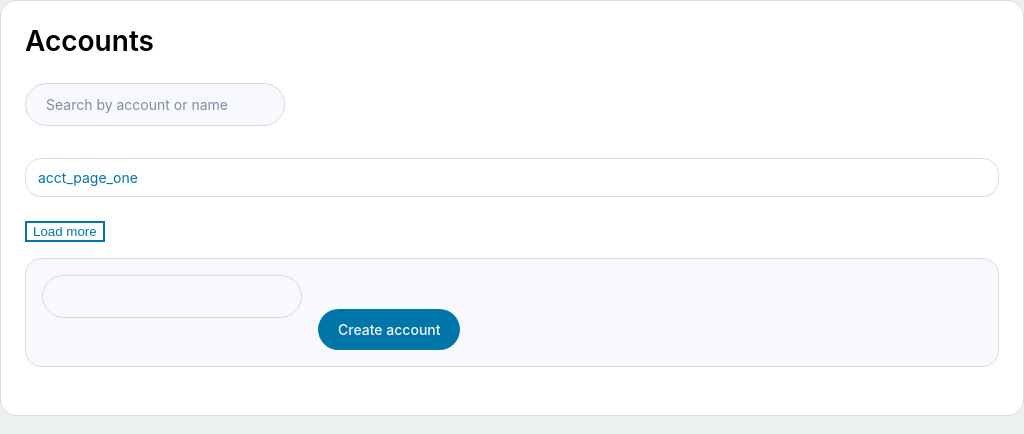
Test case: AccountsListRoute › resets to the first page when the search term changes
Expected: the link "acct_page_one" is shown, top-left (38, 167), bottom-right (138, 188)
Click the button "Load more".
click(65, 231)  # box top-left (25, 221), bottom-right (105, 242)
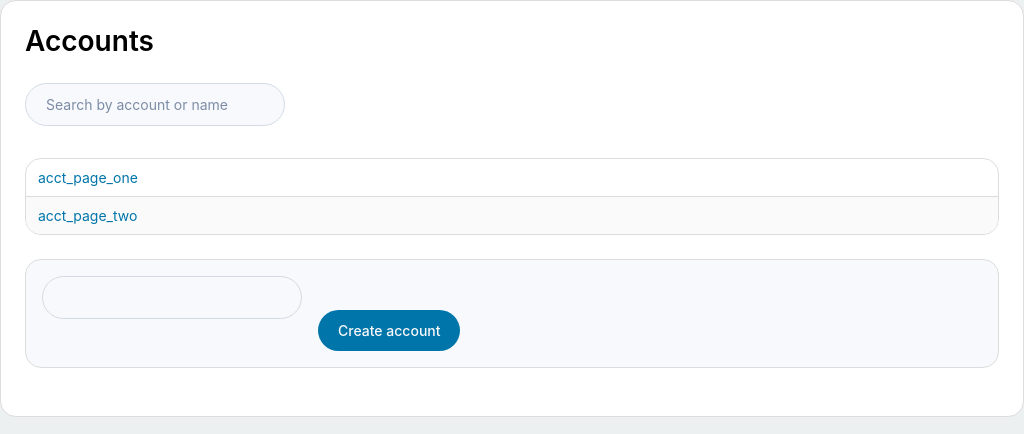
Expected: the link "acct_page_two" is shown, top-left (38, 205), bottom-right (137, 226)
Type "a" into the field named "Search accounts".
click(155, 104); type("a")  # box top-left (25, 83), bottom-right (285, 126)
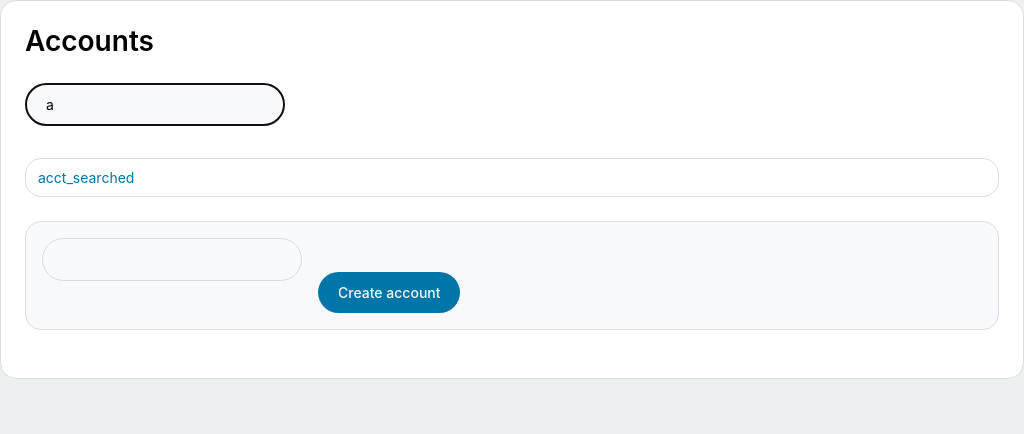
Expected: the link "acct_searched" is shown, top-left (38, 167), bottom-right (134, 188)
Expected: the link "acct_page_two" is gone
Expected: the link "acct_page_one" is gone
